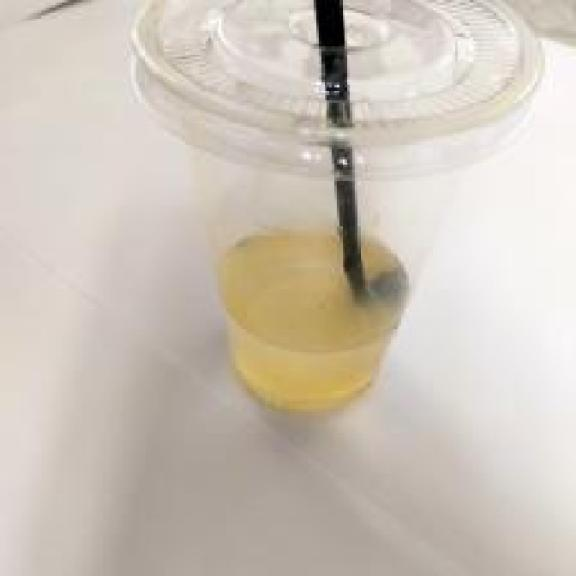Plastik: (134, 0, 542, 424)
